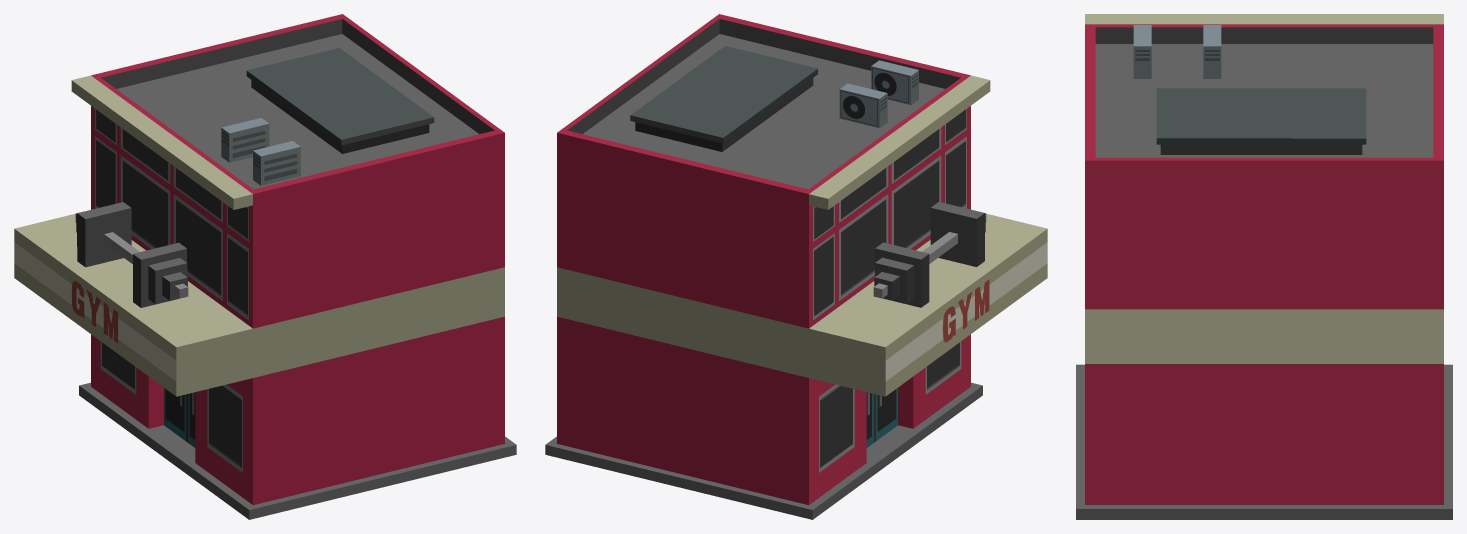
File: city_01.fbx
3 renders of one model, left to right at view 1: azimuth 30°, elevation 25°; view 2: azimuth 150°, elevation 25°; view 3: azimuth 270°, elevation 25°, orthographic. The views are drawn at different scales.
Parts seen in each view (by area): view 1: city_01; view 2: city_01; view 3: city_01.
Boxes of the visible parts, <box> form: city_01: <box>14,14,516,519</box>; city_01: <box>545,14,1047,519</box>; city_01: <box>1076,14,1452,519</box>.
Size of the model in its own units: 9.99 by 9.52 by 8.76.
1 material, 1 textured.
